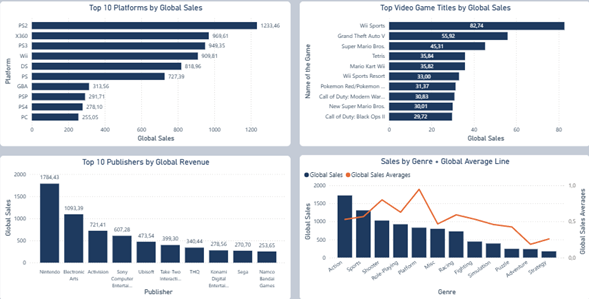

This screenshot's page, from the dashboard's own definition file:
{"tool":"powerbi","page":{"name":"Worldwide Insights","canvas":[1280,720],"ordinal":1},"visuals":[{"type":"clusteredColumnChart","title":"Top 10 Publishers by Global Revenue","fields":{"Category":["video_game_sales vgsales.publisher"],"Y":["Sum(video_game_sales vgsales.global_sales)"]},"box":[12,392.9,618.4,313.7],"z":0},{"type":"clusteredBarChart","title":"Top 10 Platforms by Global Sales","fields":{"Y":["Sum(video_game_sales vgsales.global_sales)"],"Category":["video_game_sales vgsales.platform"]},"box":[12,67.2,618.4,313.7],"z":1000},{"type":"clusteredBarChart","title":"Top Video Game Titles by Global Sales","fields":{"Category":["video_game_sales vgsales.name"],"Y":["Sum(video_game_sales vgsales.global_sales)"]},"box":[649.8,67.2,616.9,313.7],"z":2000},{"type":"lineClusteredColumnComboChart","title":"Sales by Genre + Global Average Line","fields":{"Category":["video_game_sales vgsales.genre"],"Y":["Sum(video_game_sales vgsales.global_sales)"],"Y2":["Avg(video_game_sales vgsales.global_sales)"]},"box":[649.8,392.9,616.9,313.7],"z":3000},{"type":"slicer","title":"Platform","fields":{"Values":["video_game_sales vgsales.platform"]},"box":[688.6,0,179.3,67.2],"z":4000},{"type":"slicer","fields":{"Values":["video_game_sales vgsales.year"]},"box":[403.3,0,183.7,67.2],"z":5000}]}

Visuals, with their boxes on the page's 1280x720 design canvas (x1, y1, x2, y2). These are canvas units, not pixel positions in the 589x299 screenshot, which may show the page scaled, cropped or inside an application window:
"Top 10 Publishers by Global Revenue" clusteredColumnChart: <region>12, 393, 630, 707</region>
"Top 10 Platforms by Global Sales" clusteredBarChart: <region>12, 67, 630, 381</region>
"Top Video Game Titles by Global Sales" clusteredBarChart: <region>650, 67, 1267, 381</region>
"Sales by Genre + Global Average Line" lineClusteredColumnComboChart: <region>650, 393, 1267, 707</region>
"Platform" slicer: <region>689, 0, 868, 67</region>
slicer - video_game_sales vgsales.year: <region>403, 0, 587, 67</region>
